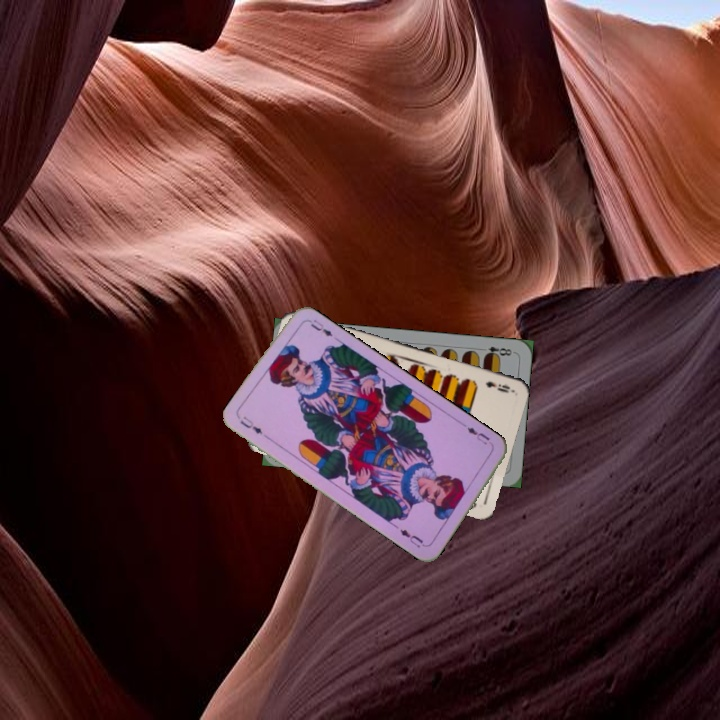E8: (476, 342, 516, 360)
E9: (481, 377, 514, 395)
EU: (463, 423, 495, 448), (236, 412, 265, 437)
